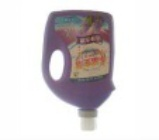ImgView: (1, 1, 158, 139)
